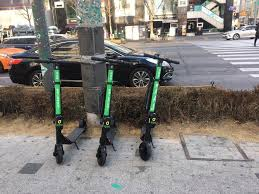kick_board: (36, 57, 86, 163), (90, 53, 134, 166), (139, 55, 178, 159)
kick_handler: (91, 52, 132, 66), (143, 52, 179, 65), (36, 57, 78, 65)
kick_neck: (147, 69, 162, 126), (101, 71, 112, 133), (54, 70, 63, 134)
kick_wheel: (139, 142, 150, 160), (54, 145, 63, 162), (97, 146, 105, 165)
